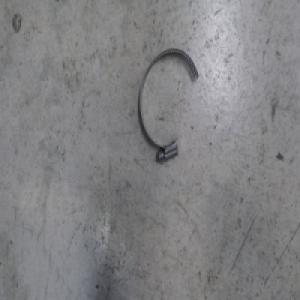AdjustableClamp: (137, 47, 200, 164)
